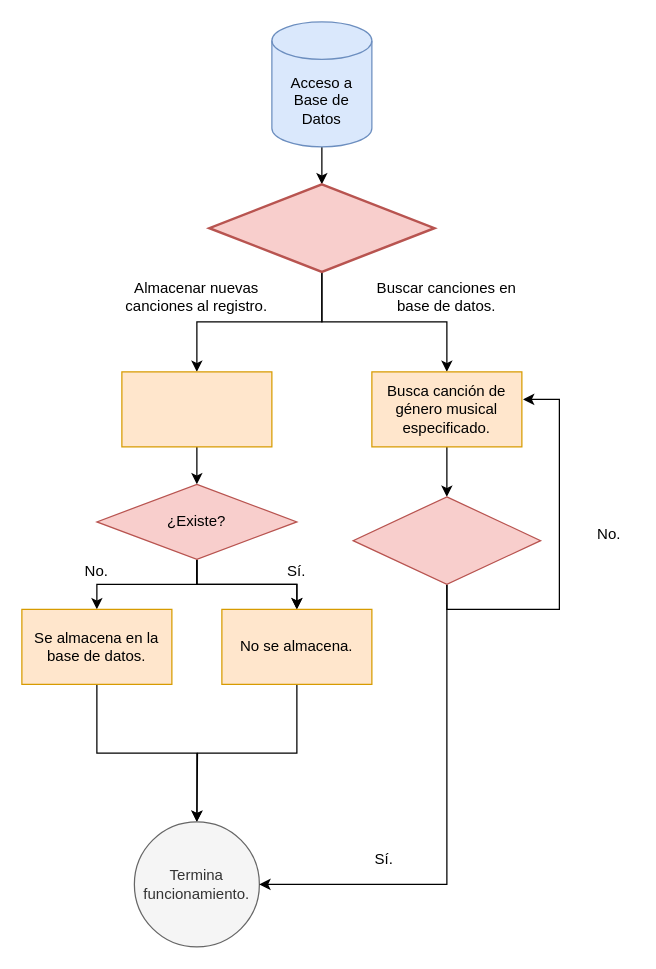
This 656x969 diagram has some shape labels left out. The box of each missing label's shape, as (x1, y1, x2, y2) in pixels:
2 tipos de usos: (208, 182, 435, 272)
Busca si la canción a almacenar ya existe.: (121, 371, 272, 447)
¿Ha repetido 10 veces?: (352, 496, 541, 584)
